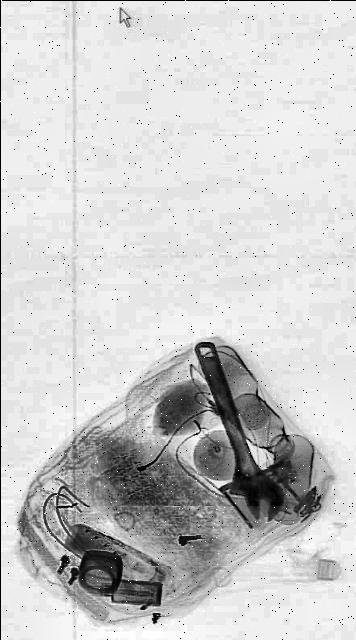Wrench: (181, 317, 288, 543)
